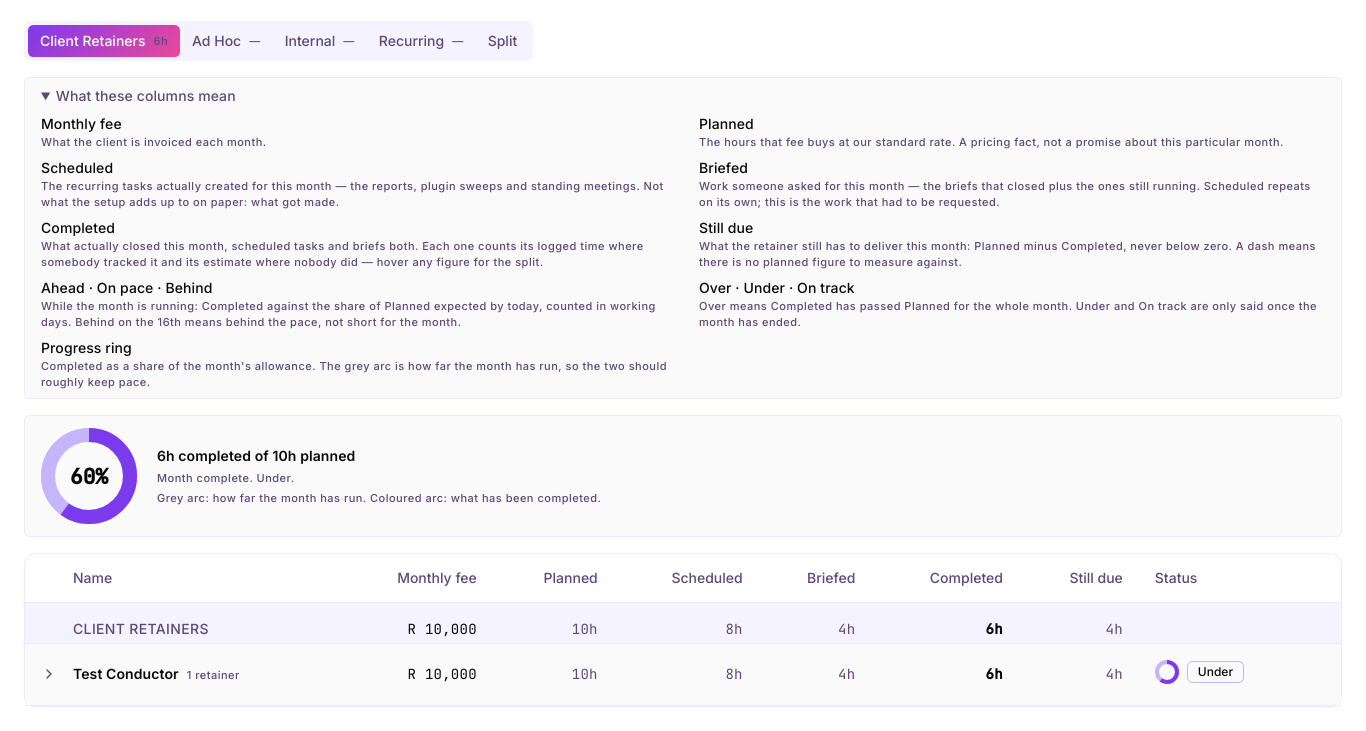
Test: RetainersList sub-items › expands a retainer's sub-tasks via the chevron without navigating
This screenshot has width=1366, height=731.
(page scrolled)
Expected: the text "Local SEO Pack" is not shown
Click the button with aria-label "Show retainers for Test Conductor".
click(683, 674)  # box [25, 643, 1341, 705]
(page scrolled)
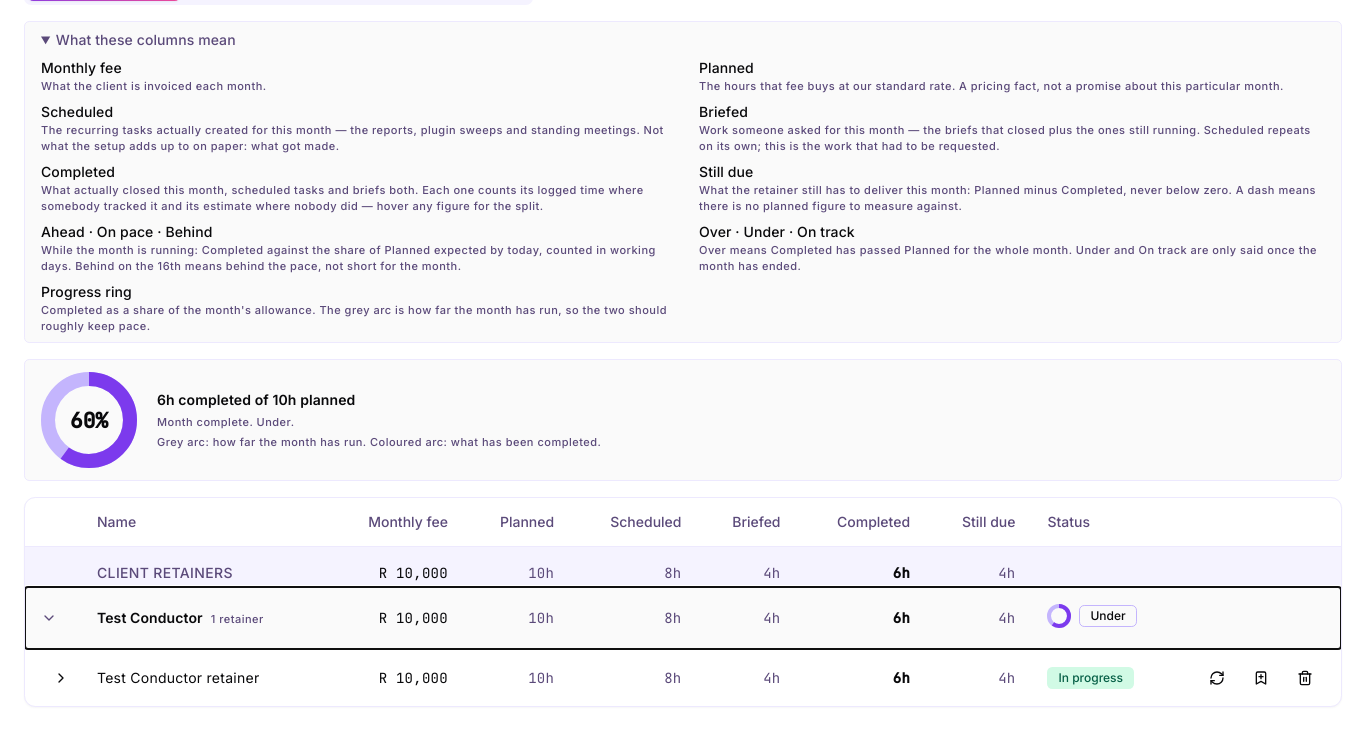
Click the button named "Show tasks for Test Conductor retainer".
click(61, 678)  # box [41, 658, 81, 698]
(page scrolled)
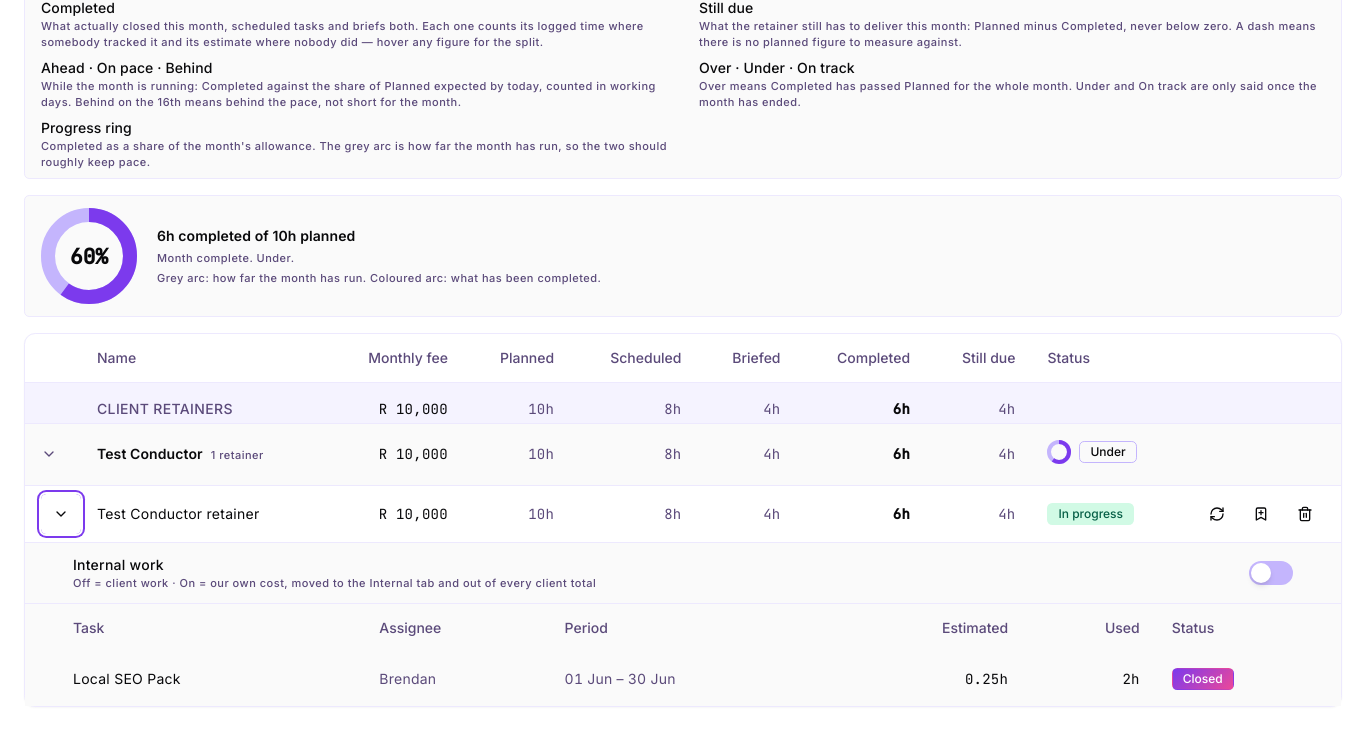
Now the text "Local SEO Pack" is shown, box [25, 652, 363, 706]
Now the text "0.25h" is shown, box [831, 652, 1024, 706]
Now the text "Closed" is shown, box [1172, 668, 1234, 690]
